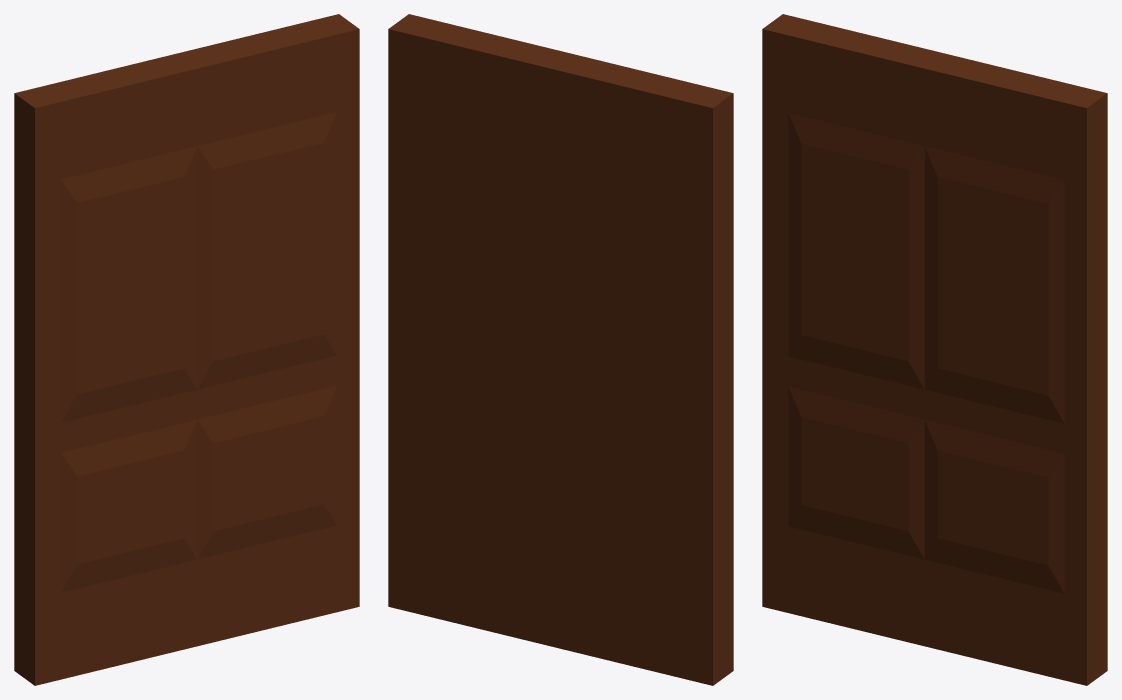
The model's file is durvis.glb.
The picture shows the model from 3 angles, left to right: view 1: azimuth 30°, elevation 25°; view 2: azimuth 150°, elevation 25°; view 3: azimuth 330°, elevation 25°; orthographic projection.
Parts seen in each view (by area): view 1: Cube.001; view 2: Cube.001; view 3: Cube.001.
Boxes of the visible parts, x1,y1,x2,y2 form: Cube.001: (14,14,359,685); Cube.001: (388,14,733,685); Cube.001: (762,14,1107,685).
Size of the model in its own units: 1.18 by 2 by 0.1392.
